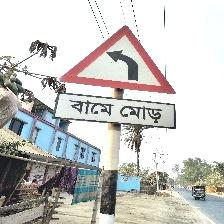Left-Turn: (56, 25, 178, 129)
